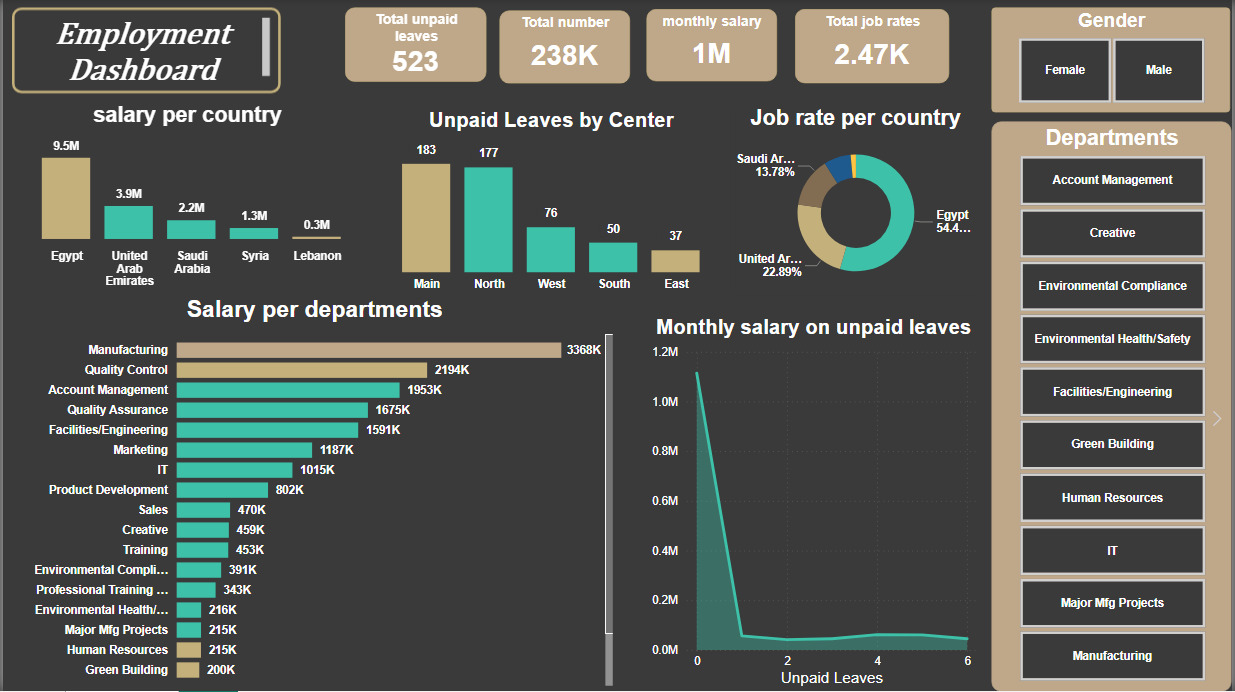

The page's visual inventory and layout, read from the dashboard file:
{"tool":"powerbi","page":{"name":"Page 1","canvas":[1280,720],"ordinal":0},"visuals":[{"type":"barChart","title":"Salary per departments","fields":{"Category":["Employees.Department"],"Y":["Sum(Employees.Annual Salary)"]},"box":[9.5,308.3,631,411.9],"z":0},{"type":"donutChart","title":"Job rate per country","fields":{"Category":["Employees.Country"],"Y":["Sum(Employees.Job Rate)"]},"box":[758.3,109.5,260.7,198.8],"z":1000},{"type":"stackedAreaChart","title":"Monthly salary on unpaid leaves","fields":{"Y":["Sum(Employees.Monthly Salary)"],"Category":["Employees.Unpaid Leaves"]},"box":[670.2,328.6,348.8,391.7],"z":2000},{"type":"lineStackedColumnComboChart","title":"Unpaid Leaves by Center","fields":{"Category":["Employees.Center"],"Y":["Sum(Employees.Unpaid Leaves)"]},"box":[384.5,111.9,373.8,198.8],"z":3000},{"type":"card","title":" monthly salary","fields":{"Values":["Sum(Employees.Monthly Salary)"]},"box":[670.2,9.5,135.7,75],"z":4000},{"type":"textbox","box":[9.5,7.1,279.8,89.3],"z":5000},{"type":"slicer","title":"Gender","fields":{"Values":["Employees.Gender"]},"box":[1029.8,7.1,248.8,109.5],"z":6000},{"type":"columnChart","title":"salary per country","fields":{"Y":["Sum(Employees.Annual Salary)"],"Category":["Employees.Country"]},"box":[0,106,384.5,202.4],"z":7000},{"type":"card","title":"Total job rates","fields":{"Values":["Sum(Employees.Job Rate)"]},"box":[825,9.5,160.7,77.4],"z":8000},{"type":"card","title":"Total unpaid leaves","fields":{"Values":["Sum(Employees.Unpaid Leaves)"]},"box":[356,7.1,147.6,77.4],"z":9000},{"type":"card","title":"Total number","fields":{"Values":["Sum(Employees.No)"]},"box":[516.7,10.7,135.7,76.2],"z":10000},{"type":"slicer","title":"Departments","fields":{"Values":["Employees.Department"]},"box":[1029.8,126.2,250,594.1],"z":11000}]}

Visuals, with their boxes in screenshot pixels (x1, y1, x2, y2), scaled from the page's 1280x720 canvas onto the 1235x692 screenshot:
"Salary per departments" barChart: left=9, top=296, right=618, bottom=691
"Job rate per country" donutChart: left=732, top=105, right=983, bottom=296
"Monthly salary on unpaid leaves" stackedAreaChart: left=647, top=316, right=983, bottom=691
"Unpaid Leaves by Center" lineStackedColumnComboChart: left=371, top=108, right=732, bottom=299
" monthly salary" card: left=647, top=9, right=778, bottom=81
textbox: left=9, top=7, right=279, bottom=93
"Gender" slicer: left=994, top=7, right=1234, bottom=112
"salary per country" columnChart: left=0, top=102, right=371, bottom=296
"Total job rates" card: left=796, top=9, right=951, bottom=84
"Total unpaid leaves" card: left=343, top=7, right=486, bottom=81
"Total number" card: left=499, top=10, right=629, bottom=84
"Departments" slicer: left=994, top=121, right=1234, bottom=691
